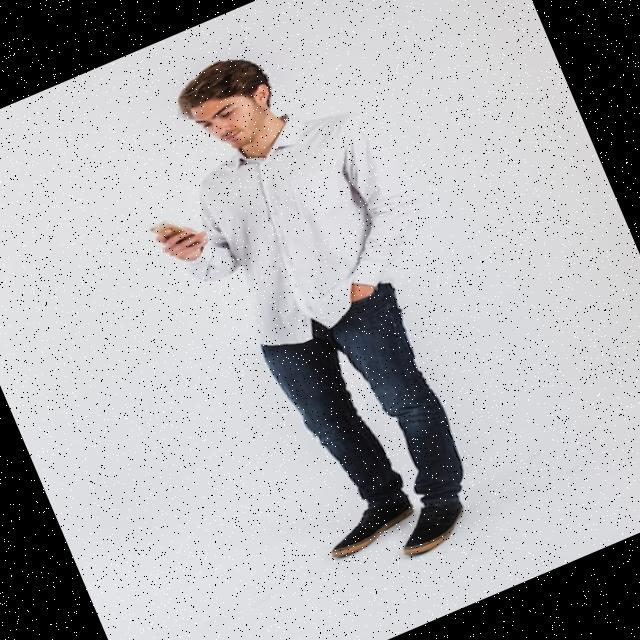Person: (97, 9, 546, 604)
